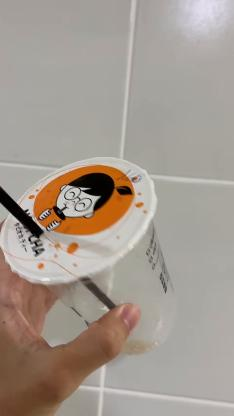Plastic Cup: (2, 155, 178, 351)
